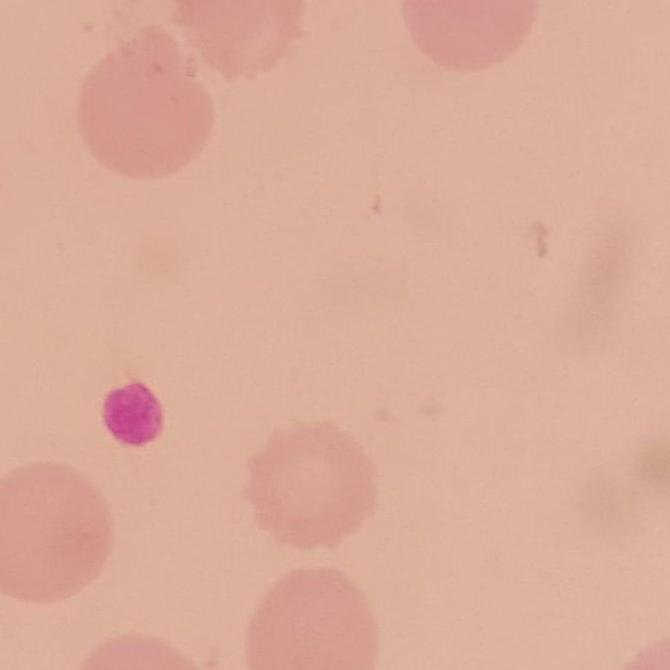Uninfected: (75, 34, 215, 177), (248, 421, 379, 548), (0, 460, 113, 600), (249, 565, 377, 670)
